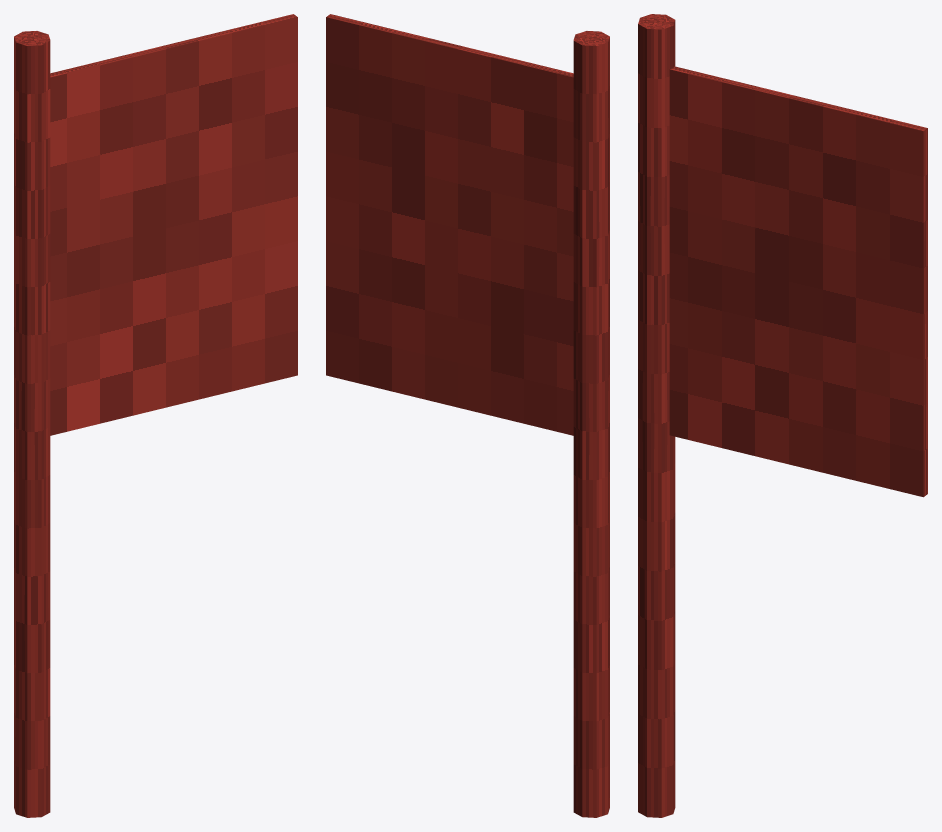
Rendered from banner_07.glb.
The picture shows the model from 3 angles, left to right: view 1: azimuth 30°, elevation 25°; view 2: azimuth 150°, elevation 25°; view 3: azimuth 330°, elevation 25°; orthographic projection. The views are drawn at different scales.
Parts seen in each view (by area): view 1: Cloth, Pole; view 2: Cloth, Pole; view 3: Cloth, Pole.
Part boxes in pixels (left/top/right/bottom): Cloth: left=50, top=14, right=297, bottom=435; Pole: left=14, top=31, right=50, bottom=817; Cloth: left=326, top=14, right=573, bottom=435; Pole: left=573, top=31, right=609, bottom=817; Cloth: left=669, top=66, right=927, bottom=497; Pole: left=638, top=14, right=675, bottom=817.
Size of the model in its own units: 0.9439 by 2.49 by 0.11.
1 material, 1 textured.
